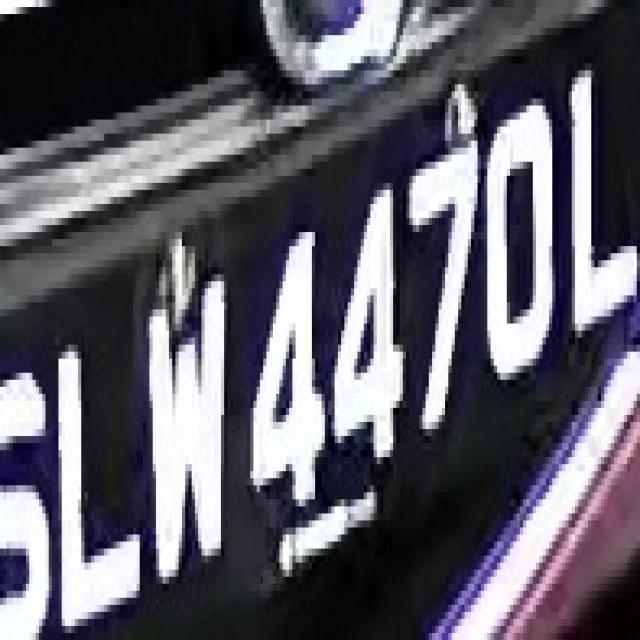0: (484, 91, 565, 394)
4: (234, 197, 331, 534), (325, 141, 406, 478)
7: (403, 127, 481, 450)
L: (45, 316, 143, 626), (556, 21, 634, 345)
S: (7, 323, 55, 626)
W: (140, 267, 234, 591)
